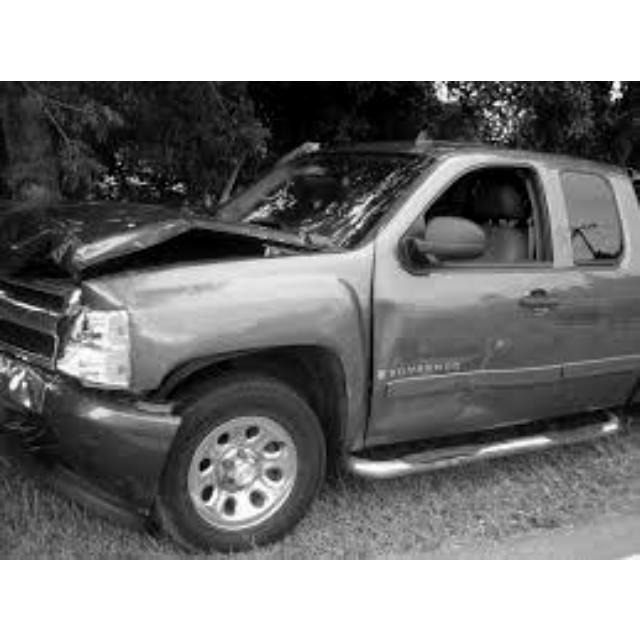bonnet-dent: (52, 204, 276, 265)
doorouter-dent: (395, 271, 553, 448)
front-bumper-dent: (8, 367, 195, 515)
